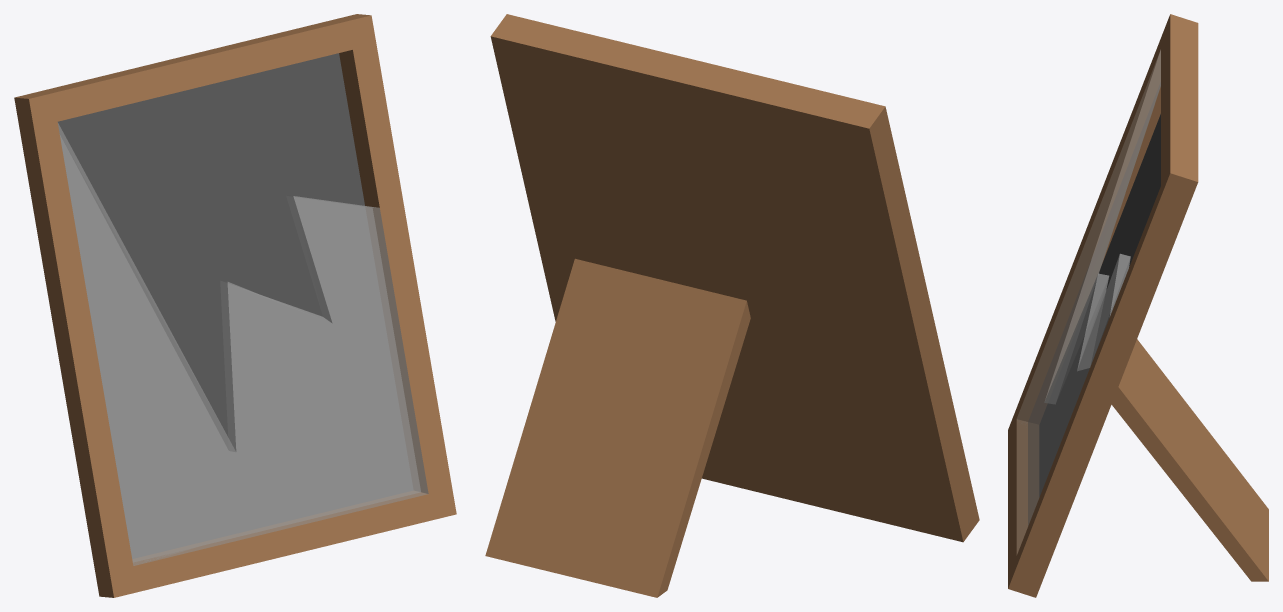
File: Picture Frame.fbx
3 views of the same model, side by side, from view 1: azimuth 30°, elevation 25°; view 2: azimuth 150°, elevation 25°; view 3: azimuth 270°, elevation 25° (orthographic). The views are drawn at different scales.
Visible parts, largest first — view 1: pCube1; view 2: pCube1; view 3: pCube1.
Boxes of the visible parts, x1=… form: pCube1: x1=14, y1=14, x2=456, y2=597; pCube1: x1=485, y1=14, x2=979, y2=597; pCube1: x1=1008, y1=14, x2=1268, y2=597.
Bounding box in the file's own units: 12.69 × 15.78 × 8.78.
